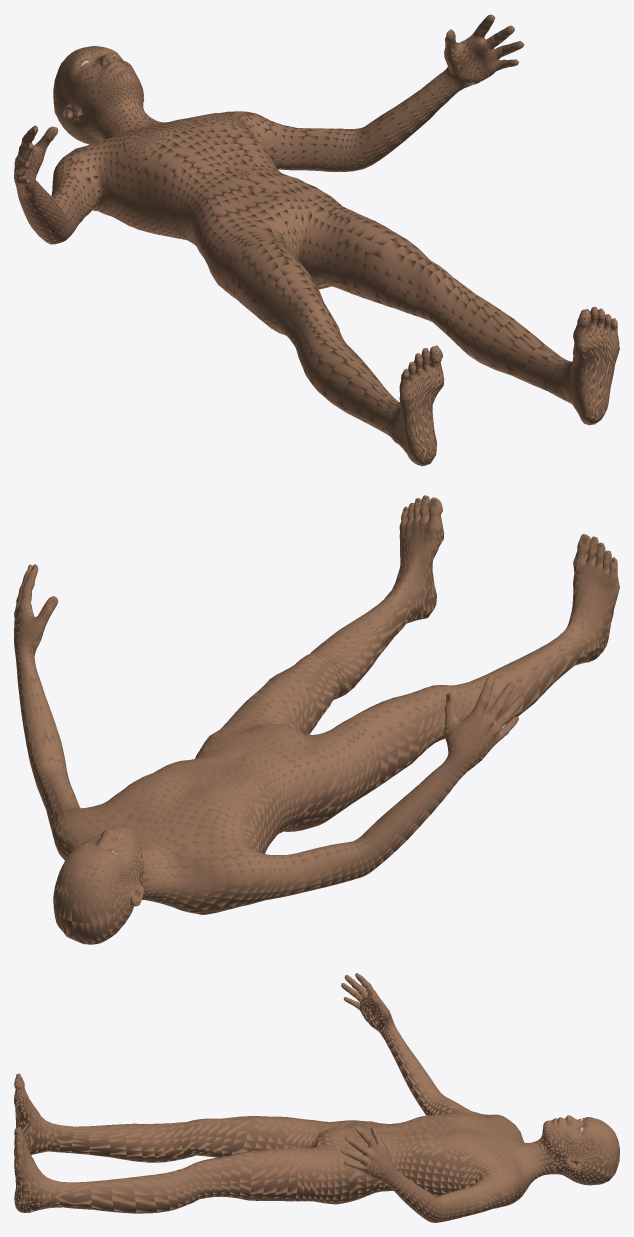
The model's file is dutyra_mixamo_upload.obj.
3 renders of one model, top to bottom at view 1: azimuth 30°, elevation 25°; view 2: azimuth 150°, elevation 25°; view 3: azimuth 270°, elevation 25°, orthographic. The views are drawn at different scales.
Visible parts, largest first — view 1: dutyra_base_maleMesh, Head; view 2: dutyra_base_maleMesh, Head; view 3: dutyra_base_maleMesh, Head.
Boxes of the visible parts, left/top/right/bottom form: dutyra_base_maleMesh: left=14, top=14, right=619, bottom=466; Head: left=53, top=46, right=162, bottom=144; dutyra_base_maleMesh: left=14, top=495, right=619, bottom=914; Head: left=53, top=826, right=211, bottom=944; dutyra_base_maleMesh: left=14, top=973, right=526, bottom=1222; Head: left=515, top=1115, right=619, bottom=1191.
Size of the model in its own units: 1.21 by 0.4896 by 1.85.
